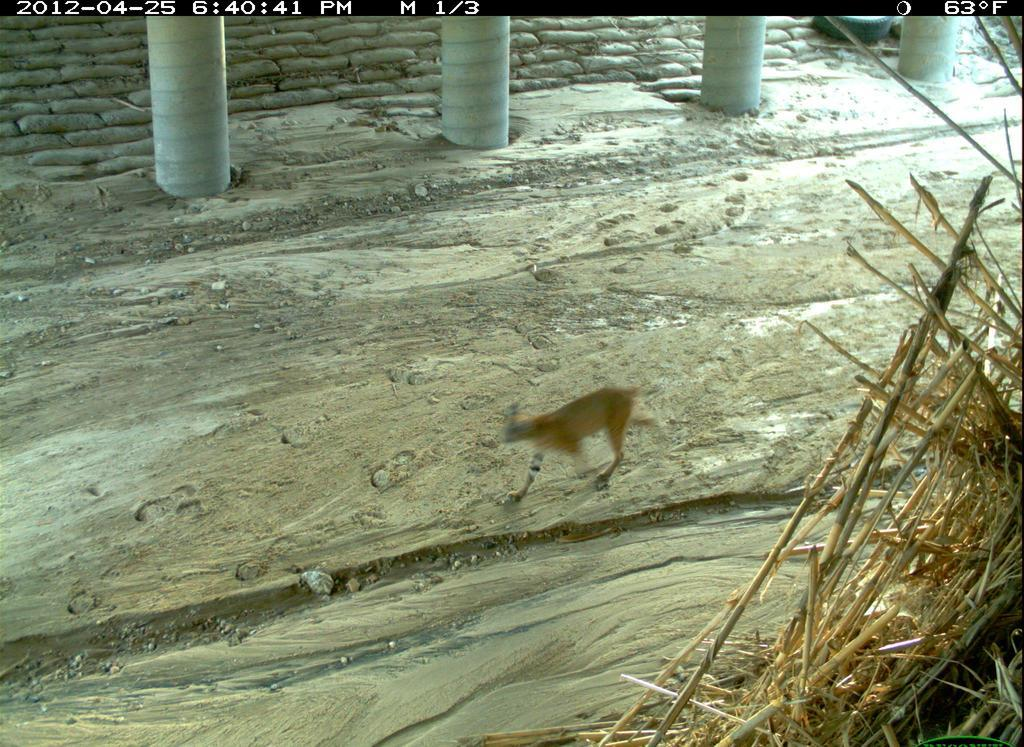bobcat: (491, 378, 665, 506)
